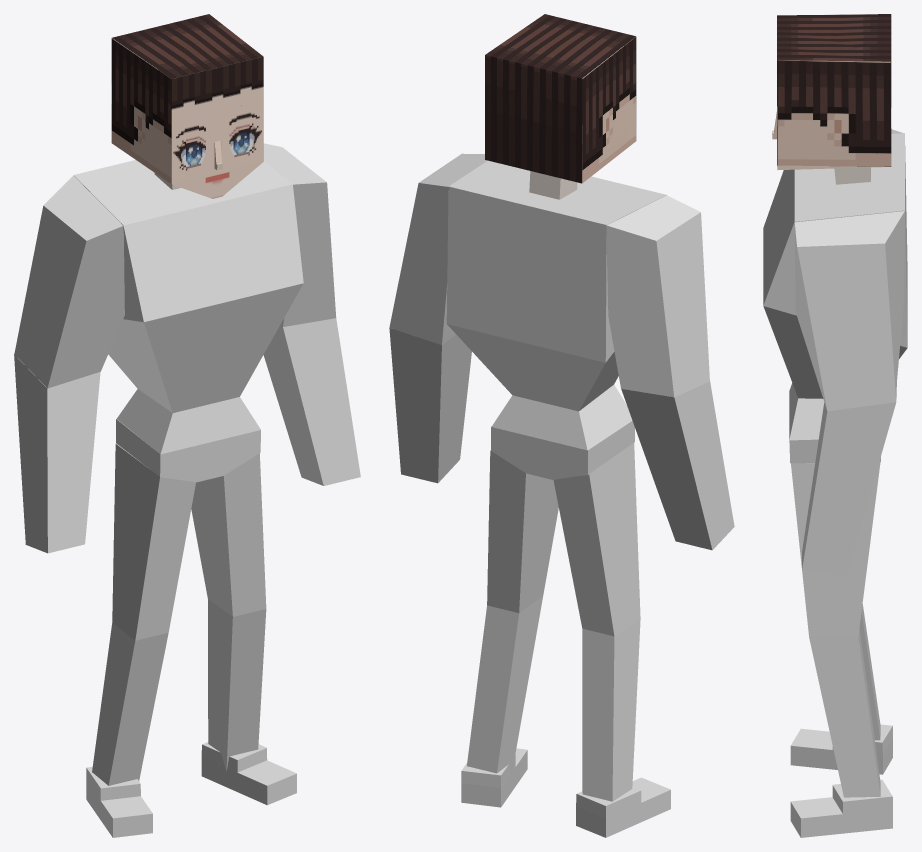
The model's file is character_for_roblox.fbx.
3 renders of one model, left to right at view 1: azimuth 30°, elevation 25°; view 2: azimuth 150°, elevation 25°; view 3: azimuth 270°, elevation 25°, orthographic.
Parts seen in each view (by area): view 1: torso, cabeca, braco superior direito, antebraco direito, coxa direita, antebraco esquerdo, coxa esquerda, canela direita, canela esquerda, braco superior esquerdo, pelve, pe esquerdo (+1 smaller); view 2: torso, cabeca, braco superior direito, coxa direita, antebraco direito, antebraco esquerdo, canela direita, coxa esquerda, canela esquerda, braco superior esquerdo, pelve, pe direito (+2 smaller); view 3: braco superior esquerdo, cabeca, torso, antebraco esquerdo, canela esquerda, coxa esquerda, pe esquerdo, pe direito, canela direita, pelve, pecoco.
Boxes of the visible parts, left/top/right/bottom form: torso: left=73, top=160, right=303, bottom=454; cabeca: left=111, top=14, right=263, bottom=198; braco superior direito: left=14, top=175, right=124, bottom=388; antebraco direito: left=14, top=354, right=100, bottom=553; coxa direita: left=112, top=443, right=195, bottom=640; antebraco esquerdo: left=263, top=318, right=360, bottom=485; coxa esquerda: left=191, top=453, right=266, bottom=616; canela direita: left=92, top=622, right=168, bottom=785; canela esquerda: left=208, top=599, right=266, bottom=772; braco superior esquerdo: left=263, top=143, right=336, bottom=326; pelve: left=116, top=419, right=260, bottom=482; pe esquerdo: left=201, top=742, right=296, bottom=805; torso: left=446, top=160, right=666, bottom=450; cabeca: left=485, top=14, right=636, bottom=183; braco superior direito: left=606, top=195, right=709, bottom=396; coxa direita: left=553, top=443, right=640, bottom=636; antebraco direito: left=621, top=381, right=734, bottom=550; antebraco esquerdo: left=389, top=328, right=471, bottom=483; canela direita: left=582, top=619, right=640, bottom=801; coxa esquerda: left=487, top=450, right=558, bottom=612; canela esquerda: left=467, top=595, right=543, bottom=777; braco superior esquerdo: left=389, top=153, right=487, bottom=344; pelve: left=491, top=421, right=634, bottom=479; pe direito: left=576, top=777, right=670, bottom=837; braco superior esquerdo: left=794, top=211, right=904, bottom=411; cabeca: left=777, top=14, right=891, bottom=170; torso: left=763, top=133, right=907, bottom=440; antebraco esquerdo: left=802, top=397, right=896, bottom=577; canela esquerda: left=809, top=628, right=880, bottom=797; coxa esquerda: left=791, top=462, right=880, bottom=637; pe esquerdo: left=790, top=779, right=892, bottom=837; pe direito: left=790, top=724, right=892, bottom=774; canela direita: left=859, top=604, right=880, bottom=740; pelve: left=789, top=439, right=880, bottom=463; pecoco: left=834, top=167, right=870, bottom=184.
Bounding box in the file's own units: 0.7946 × 1.83 × 0.3176.
4 materials, 3 textured.
